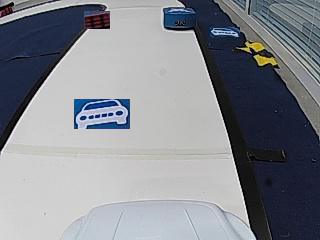prop: (164, 7, 196, 31)
